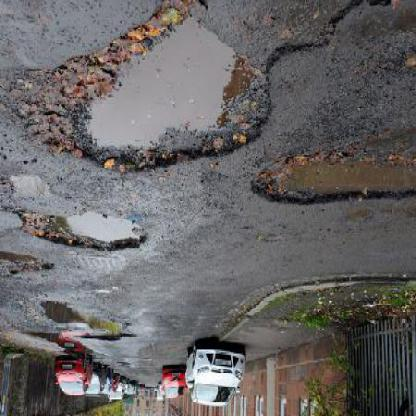pothole: (18, 2, 279, 180), (250, 148, 416, 210), (13, 206, 150, 256), (79, 317, 137, 345), (1, 250, 55, 279), (39, 298, 82, 331)
